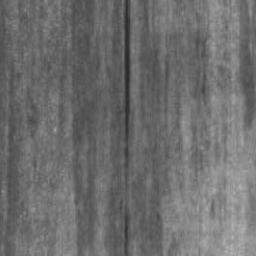Scratches: (122, 0, 131, 169)
